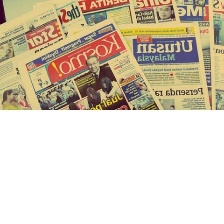news_paper: (16, 14, 167, 112), (112, 18, 212, 111), (0, 1, 67, 110), (171, 0, 223, 110), (49, 0, 140, 38), (129, 0, 181, 26)
